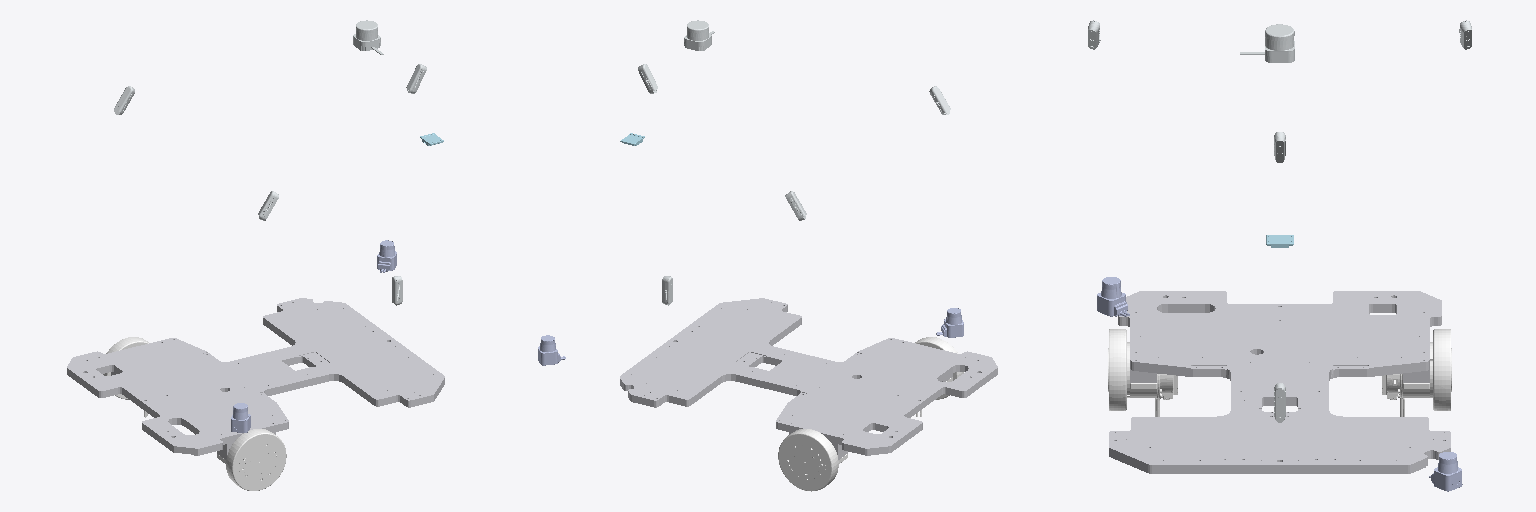
The robot description file, URDF, robot "clean_robot":
<?xml version="1.0" encoding="utf-8"?>
<!-- This URDF was automatically created by SolidWorks to URDF Exporter! Originally created by Stephen Brawner (brawner@gmail.com) 
     Commit Version: 1.5.1-0-g916b5db  Build Version: 1.5.7152.31018
     For more information, please see http://wiki.ros.org/sw_urdf_exporter -->
<robot name="clean_robot">
  <link name="base_footprint">
  </link>
  <joint name="base_footprint_joint" type="fixed">
    <parent link="base_footprint"/>
    <child link="base_link"/>
  </joint>
  <link name="rotateCentral">
  </link>
  <joint name="rotateCentral_joint" type="fixed">
    <origin xyz="-0.21 0 -0.057" rpy="0 0 0" />
    <axis xyz="0 1 0" />
    <parent link="base_link"/>
    <child link="rotateCentral"/>
  </joint>
  <link name="base_link">
    <inertial>
      <origin xyz="0.00240726108493841 0.000418202039983564 0.00979407155909989" rpy="0 0 0" />
      <mass value="28.1386020223436" />
      <inertia ixx="1.02468969743477" ixy="0.0158941047042103" ixz="-0.00370358705210533" iyy="2.18751601311466" iyz="-2.28678674738598E-05" izz="3.20778172827221" />
    </inertial>
    <visual>
      <origin xyz="0 0 0" rpy="0 0 0" />
      <geometry>
        <mesh filename="package://cleanrobot_description/meshes/base_link.STL" />
      </geometry>
      <material name="">
        <color rgba="0.866666666666667 0.866666666666667 0.890196078431372 1" />
      </material>
    </visual>
    <collision>
      <origin xyz="0 0 0" rpy="0 0 0" />
      <geometry>
        <mesh filename="package://cleanrobot_description/meshes/base_link.STL" />
      </geometry>
    </collision>
  </link>
  <link name="left_wheel_link">
    <inertial>
      <origin xyz="-4.0925E-05 -0.023024 -0.00050223" rpy="0 0 0" />
      <mass value="1.0564" />
      <inertia ixx="0.0039835" ixy="-2.5313E-06" ixz="-2.7501E-06" iyy="0.004638" iyz="-3.3138E-05" izz="0.0041315" />
    </inertial>
    <visual>
      <origin xyz="0 0 0" rpy="0 0 0" />
      <geometry>
        <mesh filename="package://cleanrobot_description/meshes/left_wheel.STL" />
      </geometry>
      <material name="">
        <color rgba="1 1 1 1" />
      </material>
    </visual>
    <collision>
      <origin xyz="0 0 0" rpy="0 0 0" />
      <geometry>
        <mesh filename="package://cleanrobot_description/meshes/left_wheel.STL" />
      </geometry>
    </collision>
  </link>
  <joint name="left_wheel_joint" type="continuous">
    <origin xyz="-0.21 0.35525 -0.057" rpy="0 0 0" />
    <parent link="base_link" />
    <child link="left_wheel_link" />
    <axis xyz="0 1 0" />
    <limit lower="-3.14" upper="3.14" effort="100" velocity="1" />
  </joint>
  <link name="right_wheel_link">
    <inertial>
      <origin xyz="4.0925E-05 0.023024 -0.00050223" rpy="0 0 0" />
      <mass value="1.0564" />
      <inertia ixx="0.0039835" ixy="-2.5313E-06" ixz="2.7501E-06" iyy="0.004638" iyz="3.3138E-05" izz="0.0041315" />
    </inertial>
    <visual>
      <origin xyz="0 0 0" rpy="0 0 0" />
      <geometry>
        <mesh filename="package://cleanrobot_description/meshes/right_wheel.STL" />
      </geometry>
      <material name="">
        <color rgba="1 1 1 1" />
      </material>
    </visual>
    <collision>
      <origin xyz="0 0 0" rpy="0 0 0" />
      <geometry>
        <mesh filename="package://cleanrobot_description/meshes/right_wheel.STL" />
      </geometry>
    </collision>
  </link>
  <joint name="right_wheel_joint" type="continuous">
    <origin xyz="-0.21 -0.35525 -0.057" rpy="0 0 0" />
    <parent link="base_link" />
    <child link="right_wheel_link" />
    <axis xyz="0 1 0" />
    <limit lower="-3.14" upper="3.14" effort="100" velocity="1" />
  </joint>
  <link name="gyro_link">
    <inertial>
      <origin xyz="3.1965E-05 -1.3878E-17 0.0060316" rpy="0 0 0" />
      <mass value="0.02361" />
      <inertia ixx="5.4191E-06" ixy="5.5519E-21" ixz="1.8141E-09" iyy="4.3874E-06" iyz="7.0038E-21" izz="9.3231E-06" />
    </inertial>
    <visual>
      <origin xyz="0 0 0" rpy="0 0 0" />
      <geometry>
        <mesh filename="package://cleanrobot_description/meshes/gyro.STL" />
      </geometry>
      <material name="">
        <color rgba="0.74118 0.90196 0.95686 1" />
      </material>
    </visual>
    <collision>
      <origin xyz="0 0 0" rpy="0 0 0" />
      <geometry>
        <mesh filename="package://cleanrobot_description/meshes/gyro.STL" />
      </geometry>
    </collision>
  </link>
  <joint name="gyro_joint" type="fixed"> 
    <!-- <origin xyz="0.09075 0.234 0.5377" rpy="0 0 0" /> -->
    <!-- <origin xyz="0.09075 0.234 0.5377" rpy="0 0 1.5708" /> -->
    <origin xyz="0.570500000000003 0 0.6112" rpy="0 0 0" />
    <!-- <origin xyz="0 0 0" rpy="0 0 1.5708" /> -->
     <!-- <origin xyz="0 0 0" rpy="0 0 3.14" /> -->
    <parent link="base_link" /> 
    <child link="gyro_link" />
    <axis xyz="0 0 0" /> 
    <limit lower="-3.14" upper="3.14" effort="100" velocity="1" />
  </joint>
  <link name="front_laser">
    <inertial>
      <origin xyz="-0.550525948072943 0.0400079398991852 0.235547624375764" rpy="0 0 0" />
      <mass value="292.649704989435" />
      <inertia ixx="44.0373395468623" ixy="2.81633498450796" ixz="1.66357751279977" iyy="43.7828032777511" iyz="-2.18059444316504" izz="37.7889157054444" />
    </inertial>
    <visual>
      <origin xyz="0 0 0" rpy="0 0 0" />
      <geometry>
        <mesh filename="package://cleanrobot_description/meshes/front_laser.STL" />
      </geometry>
      <material name="">
        <color rgba="0.792156862745098 0.819607843137255 0.933333333333333 1" />
      </material>
    </visual>
    <collision>
      <origin xyz="0 0 0" rpy="0 0 0" />
      <geometry>
        <mesh filename="package://cleanrobot_description/meshes/front_laser.STL" />
      </geometry>
    </collision>
  </link>
  <joint name="front_laser" type="fixed">
    <origin xyz="0.63609 0.3676 0.1065" rpy="0 0 0.7854" />
    <parent link="base_link" />
    <child link="front_laser" />
    <axis xyz="0 0 0" />
    <limit lower="-3.14" upper="3.14" effort="100" velocity="1" />
  </joint>
  <link name="back_laser">
    <inertial>
      <origin xyz="-0.606063155895012 0.0792949530645376 0.235547624375765" rpy="0 0 0" />
      <mass value="292.649704989435" />
      <inertia ixx="44.0373395468623" ixy="2.81633498450796" ixz="-1.66357751279979" iyy="43.7828032777511" iyz="2.18059444316503" izz="37.7889157054444" />
    </inertial>
    <visual>
      <origin xyz="0 0 0" rpy="0 0 0" />
      <geometry>
        <mesh filename="package://cleanrobot_description/meshes/back_laser.STL" />
      </geometry>
      <material name="">
        <color rgba="0.792156862745098 0.819607843137255 0.933333333333333 1" />
      </material>
    </visual>
    <collision>
      <origin xyz="0 0 0" rpy="0 0 0" />
      <geometry>
        <mesh filename="package://cleanrobot_description/meshes/back_laser.STL" />
      </geometry>
    </collision>
  </link>
  <joint name="back_laser" type="fixed">
    <origin xyz="-0.268930717856867 -0.368700270478571 0.1065" rpy="0 0 -2.35619449019235" />
    <parent link="base_link" />
    <child link="back_laser" />
    <axis xyz="0 0 0" />
    <limit lower="-3.14" upper="3.14" effort="100" velocity="1" />
  </joint>
  <link name="left_camera">
    <inertial>
      <origin xyz="-0.0141516366925666 -3.26056080095505E-05 0.00213468650215209" rpy="0 0 0" />
      <mass value="0.0330606537395875" />
      <inertia ixx="2.18493760077461E-05" ixy="-6.17717819624996E-09" ixz="1.25370444127801E-07" iyy="2.18264141606428E-05" iyz="-1.50421742192633E-09" izz="3.29669338756779E-06" />
    </inertial>
    <visual>
      <origin xyz="0 0 0" rpy="0 0 0" />
      <geometry>
        <mesh filename="package://cleanrobot_description/meshes/left_camera.STL" />
      </geometry>
      <material name="">
        <color rgba="0.898039215686275 0.917647058823529 0.929411764705882 1" />
      </material>
    </visual>
    <collision>
      <origin xyz="0 0 0" rpy="0 0 0" />
      <geometry>
        <mesh filename="package://cleanrobot_description/meshes/left_camera.STL" />
      </geometry>
    </collision>
  </link>
  <joint name="left_camera" type="fixed">
    <origin xyz="-0.19132 0.41134 0.74916" rpy="0.23506 0.56923 0.41813" />
    <parent link="base_link" />
    <child link="left_camera" />
    <axis xyz="0 0 0" />
    <limit lower="-3.14" upper="3.14" effort="100" velocity="1" />
  </joint>
  <link name="gemini_cf_link">
  </link>
  <joint name="gemini_cf_mount" type="fixed">
    <origin xyz="-0.19132 0.41134 0.74916" rpy="-1.3566103945451464 0.5913913234410315 0.8072821647989962" />
    <parent link="base_link" />
    <child link="gemini_cf_link" />
    <axis xyz="0 0 0" />
    <limit lower="-3.14" upper="3.14" effort="100" velocity="1" />
  </joint>
  <link name="right_camera">
    <inertial>
      <origin xyz="-0.0141516361666065 -3.26036350821735E-05 0.00213466768908482" rpy="0 0 0" />
      <mass value="0.0330606483873418" />
      <inertia ixx="2.18493477974992E-05" ixy="-6.17679741189438E-09" ixz="1.25366332467947E-07" iyy="2.18263835224402E-05" iyz="-1.50439378133062E-09" izz="3.29669552730337E-06" />
    </inertial>
    <visual>
      <origin xyz="0 0 0" rpy="0 0 0" />
      <geometry>
        <mesh filename="package://cleanrobot_description/meshes/right_camera.STL" />
      </geometry>
      <material name="">
        <color rgba="0.898039215686275 0.917647058823529 0.929411764705882 1" />
      </material>
    </visual>
    <collision>
      <origin xyz="0 0 0" rpy="0 0 0" />
      <geometry>
        <mesh filename="package://cleanrobot_description/meshes/right_camera.STL" />
      </geometry>
    </collision>
  </link>
  <joint name="right_camera" type="fixed">
    <origin xyz="-0.191320317730058 -0.411341073999901 0.749159002625788" rpy="-0.235058050352044 0.569232278982428 -0.418125094869826" />
    <parent link="base_link" />
    <child link="right_camera" />
    <axis xyz="0 0 0" />
    <limit lower="-3.14" upper="3.14" effort="100" velocity="1" />
  </joint>
  <link name="gemini_nj_link">
  </link>
  <joint name="gemini_nj_mount" type="fixed">
    <origin xyz="-0.191320317730058 -0.411341073999901 0.749159002625788" rpy="1.3429140392529437 0.5863666263909981 -0.8146781208426432" />
    <parent link="base_link" />
    <child link="gemini_nj_link" />
    <axis xyz="0 0 0" />
    <limit lower="-3.14" upper="3.14" effort="100" velocity="1" />
  </joint>
  <link name="up_camera">
    <inertial>
      <origin xyz="-0.0141516243722175 -3.26096145666366E-05 0.00213464076433513" rpy="0 0 0" />
      <mass value="0.0330606354180295" />
      <inertia ixx="2.1849341566882E-05" ixy="-6.17921287204605E-09" ixz="1.25356970547292E-07" iyy="2.18263739734521E-05" iyz="-1.49626199314348E-09" izz="3.29669412757788E-06" />
    </inertial>
    <visual>
      <origin xyz="0 0 0" rpy="0 0 0" />
      <geometry>
        <mesh filename="package://cleanrobot_description/meshes/up_camera.STL" />
      </geometry>
      <material name="">
        <color rgba="0.898039215686275 0.917647058823529 0.929411764705882 1" />
      </material>
    </visual>
    <collision>
      <origin xyz="0 0 0" rpy="0 0 0" />
      <geometry>
        <mesh filename="package://cleanrobot_description/meshes/up_camera.STL" />
      </geometry>
    </collision>
  </link>
  <joint name="up_camera" type="fixed">
    <origin xyz="0.529994739129453 0 0.814489567267008" rpy="0 0.517921178785262 0" />
    <parent link="base_link" />
    <child link="up_camera" />
    <axis xyz="0 0 0" />
    <limit lower="-3.14" upper="3.14" effort="100" velocity="1" />
  </joint>
  <link name="down_camera">
    <inertial>
      <origin xyz="-0.0141516246150703 -3.2608990155269E-05 0.00213463913380307" rpy="0 0 0" />
      <mass value="0.0330606407134946" />
      <inertia ixx="2.18493246164614E-05" ixy="-6.1789784629534E-09" ixz="1.25354729142066E-07" iyy="2.18263555001382E-05" iyz="-1.49709330581095E-09" izz="3.29669547205362E-06" />
    </inertial>
    <visual>
      <origin xyz="0 0 0" rpy="0 0 0" />
      <geometry>
        <mesh filename="package://cleanrobot_description/meshes/down_camera.STL" />
      </geometry>
      <material name="">
        <color rgba="0.898039215686275 0.917647058823529 0.929411764705882 1" />
      </material>
    </visual>
    <collision>
      <origin xyz="0 0 0" rpy="0 0 0" />
      <geometry>
        <mesh filename="package://cleanrobot_description/meshes/down_camera.STL" />
      </geometry>
    </collision>
  </link>
  <joint name="down_camera" type="fixed">
    <origin xyz="0.468 0 0.17399" rpy="0 0 0" />
    <parent link="base_link" />
    <child link="down_camera" />
    <axis xyz="0 0 0" />
    <limit lower="-3.14" upper="3.14" effort="100" velocity="1" />
  </joint>
  <link name="laser">
    <inertial>
      <origin xyz="4.01377249381607E-07 -0.0004029337120008 -0.0123695383858642" rpy="0 0 0" />
      <mass value="0.231565199535219" />
      <inertia ixx="0.000154249816516349" ixy="3.19274550737147E-09" ixz="1.57803601278125E-09" iyy="0.000148311975446975" iyz="-2.12876270026058E-06" izz="0.000139022675797784" />
    </inertial>
    <visual>
      <origin xyz="0 0 0" rpy="0 0 0" />
      <geometry>
        <mesh filename="package://cleanrobot_description/meshes/laser.STL" />
      </geometry>
      <material name="">
        <color rgba="0.898039215686275 0.917647058823529 0.929411764705882 1" />
      </material>
    </visual>
    <collision>
      <origin xyz="0 0 0" rpy="0 0 0" />
      <geometry>
        <mesh filename="package://cleanrobot_description/meshes/laser.STL" />
      </geometry>
    </collision>
  </link>
  <joint name="laser_joint" type="fixed">
    <origin xyz="0.357118365096453 -0.000451058909936171 1.0058" rpy="0 0 0" />
    <parent link="base_link" />
    <child link="laser" />
    <axis xyz="0 0 0" />
    <limit lower="-3.14" upper="3.14" effort="100" velocity="1" />
  </joint>
</robot>

--- Render facts (derived) ---
3 views of the same robot in one strip: view 1: azimuth 30°, elevation 25°; view 2: azimuth 150°, elevation 25°; view 3: azimuth 270°, elevation 25° (orthographic).
Model clean_robot with 15 links and 14 joints (2 continuous, 12 fixed), rooted at base_footprint, posed all joints at 0.
Visible links, largest first — view 1: base_link, right_wheel_link, laser, front_laser; view 2: base_link, left_wheel_link, laser, back_laser, front_laser; view 3: base_link, right_wheel_link, left_wheel_link, laser, back_laser, front_laser.
Link boxes in pixels (x1,y1,x2,y2): base_link: (67, 298, 444, 459); right_wheel_link: (217, 429, 286, 490); laser: (353, 20, 383, 54); front_laser: (377, 240, 396, 272); base_link: (620, 298, 997, 459); left_wheel_link: (778, 429, 847, 491); laser: (684, 20, 714, 50); back_laser: (936, 308, 963, 337); front_laser: (538, 335, 565, 365); base_link: (1109, 291, 1450, 473); right_wheel_link: (1108, 329, 1177, 416); left_wheel_link: (1382, 329, 1451, 416); laser: (1240, 24, 1294, 62); back_laser: (1097, 277, 1129, 316); front_laser: (1429, 452, 1462, 491).
Size in the robot's own frame: 1.12 by 0.8408 by 1.2 metres.
11 mesh visuals loaded from 11 distinct referenced files (11 binary STL).
